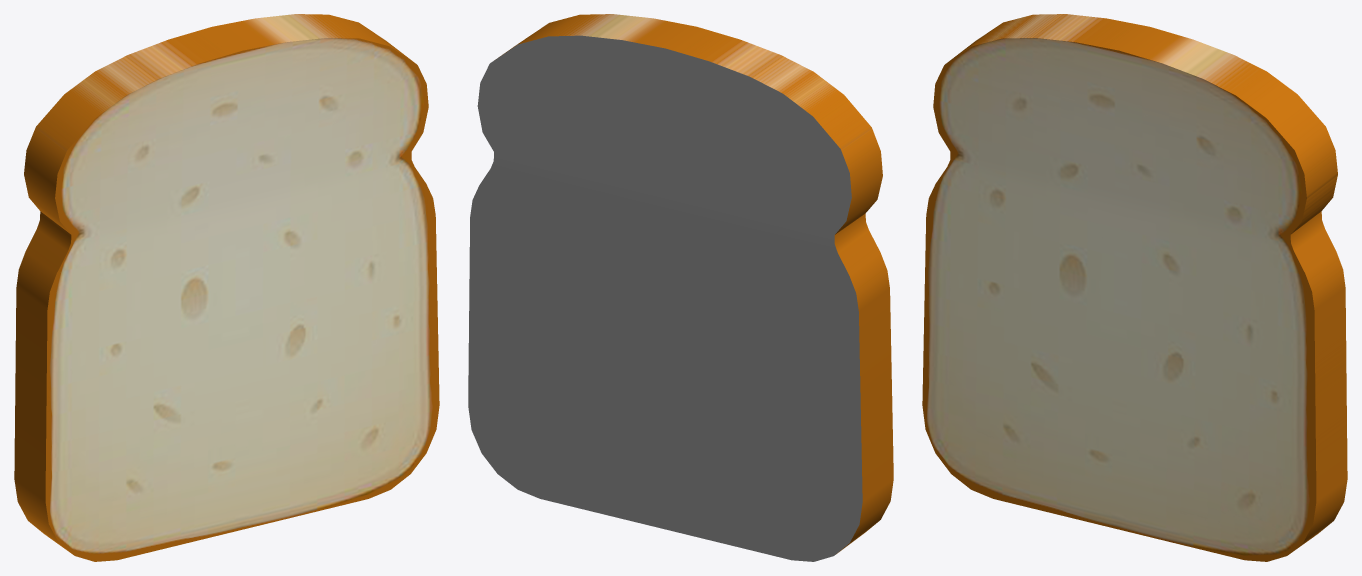
The model's file is bread.fbx.
The picture shows the model from 3 angles, left to right: view 1: azimuth 30°, elevation 25°; view 2: azimuth 150°, elevation 25°; view 3: azimuth 330°, elevation 25°; orthographic projection.
Parts seen in each view (by area): view 1: pCube4; view 2: pCube4; view 3: pCube4.
Boxes of the visible parts, <box> form: pCube4: <box>14,14,439,561</box>; pCube4: <box>468,14,893,561</box>; pCube4: <box>922,14,1347,561</box>.
Bounding box in the file's own units: 6.13 × 7.15 × 0.88.
